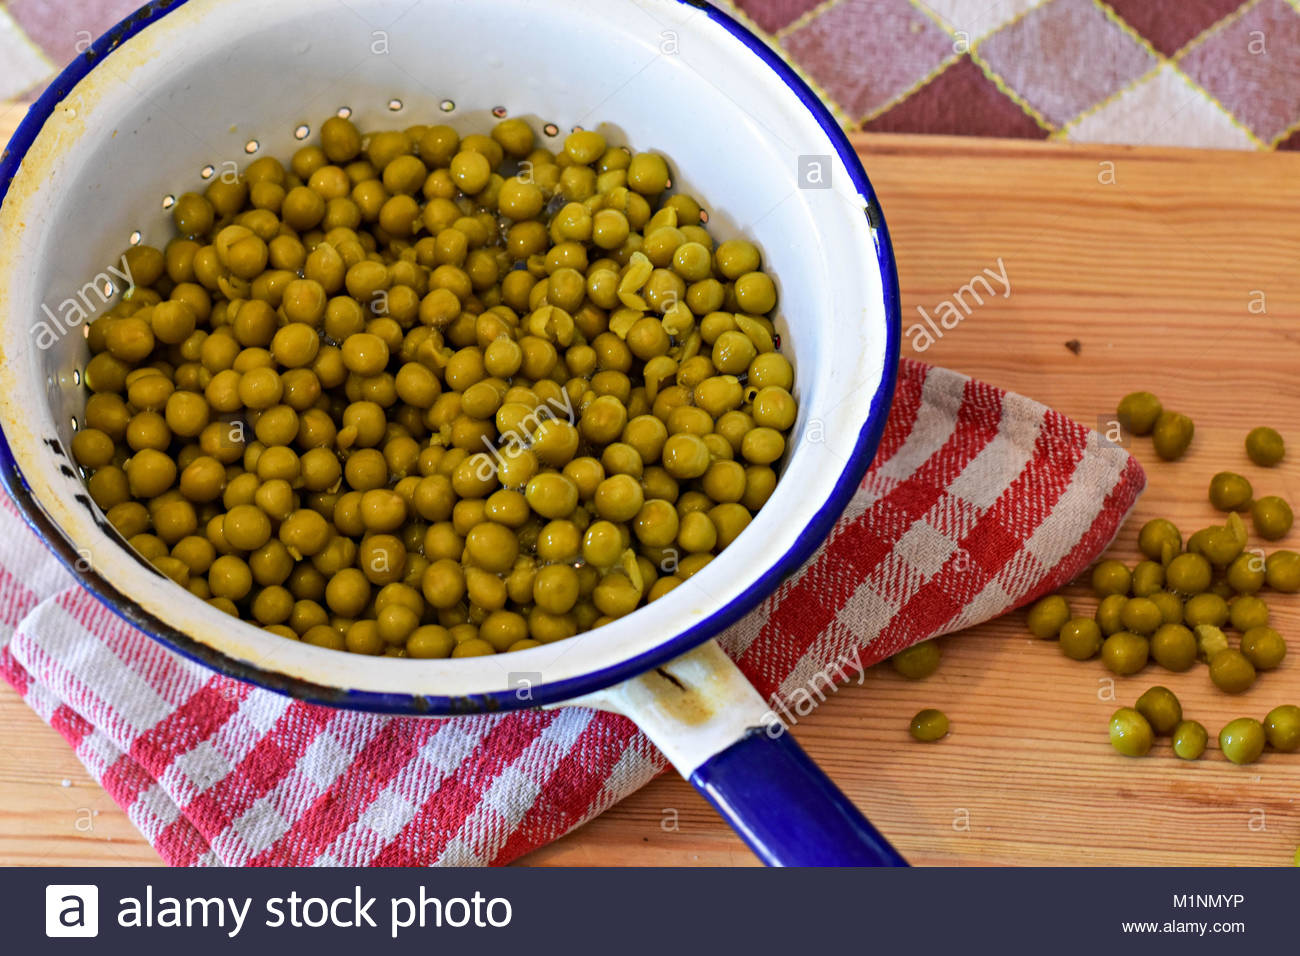boiled peas: (133, 120, 717, 608)
